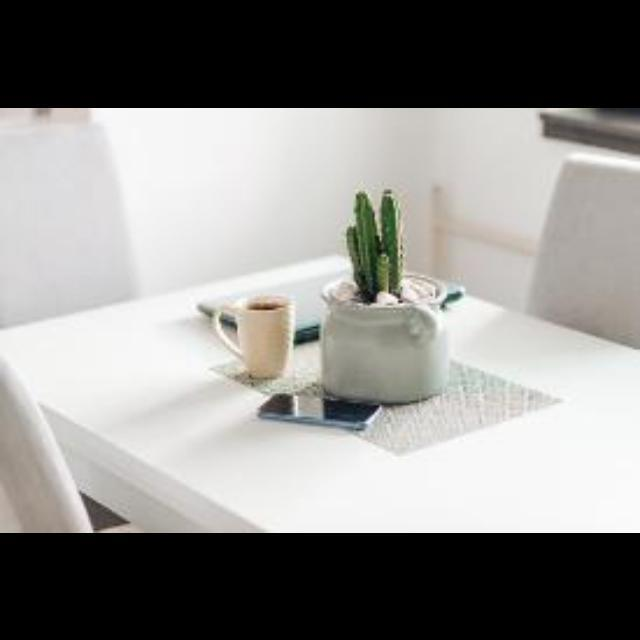phone: (247, 377, 396, 444)
